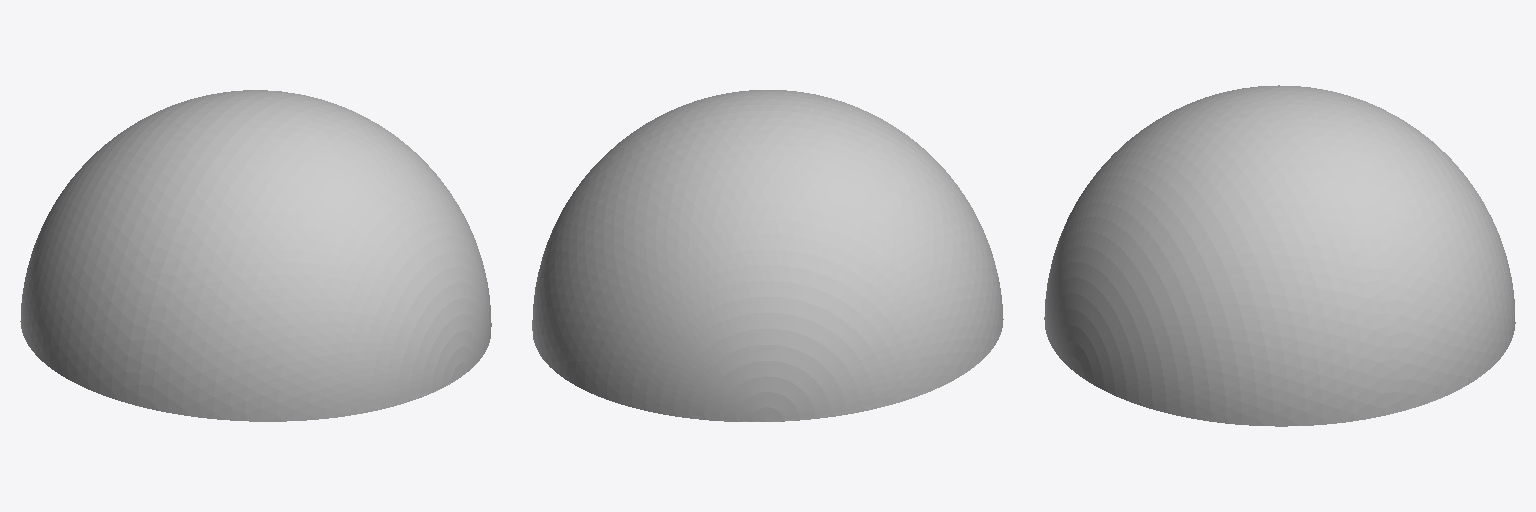
URDF robot description (upper_hemisphere):
<?xml version="1.0"?>
<!-- created with Phobos 1.0.1 "Capricious Choutengan" -->
  <robot name="upper_hemisphere">

    <link name="upper_hemisphere">
      <inertial>
        <origin xyz="0 0 -0.33598" rpy="0 0 0"/>
        <mass value="0.2"/>
        <inertia ixx="0.22344" ixy="-0.00078" ixz="0" iyy="0.22344" iyz="0" izz="0.19258"/>
      </inertial>
      <visual name="node3">
        <origin xyz="0 0 -0.23098" rpy="1.5708 0 0"/>
        <geometry>
          <mesh filename="../meshes/dae/Part__Feature075.dae" scale="10.0 10.0 10.0"/>
        </geometry>
        <material name="Part__Feature075"/>
      </visual>
      <collision name="node3.000">
        <origin xyz="0 0 -0.23098" rpy="1.5708 0 0"/>
        <geometry>
          <mesh filename="../meshes/dae/Part__Feature075.001.dae" scale="1.0 1.0 1.0"/>
        </geometry>
      </collision>
    </link>

    <material name="Part__Feature075">
      <color rgba="0.8 0.8 0.8 1.0"/>
    </material>

  </robot>

--- What the picture shows (computed from the rendered views, not written in the file) ---
The picture shows the robot from 3 angles, left to right: view 1: azimuth 30°, elevation 25°; view 2: azimuth 150°, elevation 25°; view 3: azimuth 270°, elevation 25°; orthographic projection.
Robot: upper_hemisphere — 1 links, 0 joints (none); root link upper_hemisphere; default pose: all joints at 0.
Links seen in each view (by area): view 1: upper_hemisphere; view 2: upper_hemisphere; view 3: upper_hemisphere.
Link boxes in pixels (bbox=[...]): upper_hemisphere: bbox=[20, 90, 491, 421]; upper_hemisphere: bbox=[532, 90, 1003, 421]; upper_hemisphere: bbox=[1044, 85, 1515, 426].
Bounding box of the posed robot: 5 × 5 × 2.57 m (x, y, z).
1 mesh visuals loaded from 1 distinct referenced files (1 Collada DAE).